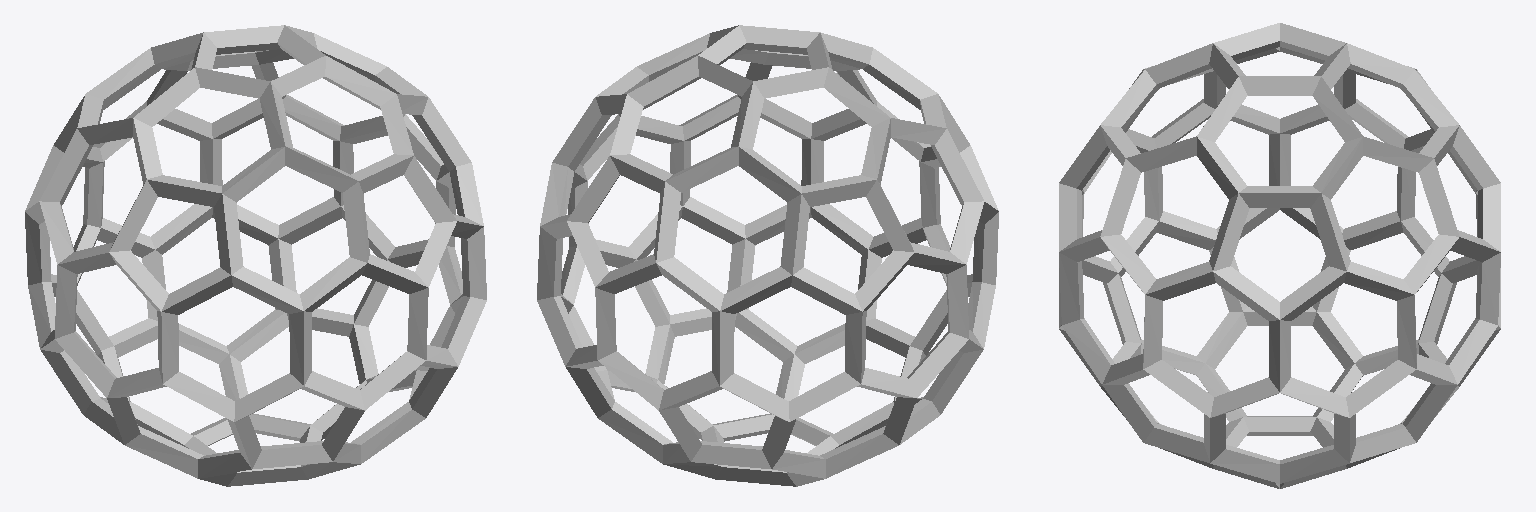
File: artevita_sphere.obj
3 renders of one model, left to right at view 1: azimuth 30°, elevation 25°; view 2: azimuth 150°, elevation 25°; view 3: azimuth 270°, elevation 25°, orthographic.
Parts seen in each view (by area): view 1: Wireframe_ARTEVITA_SPHERE; view 2: Wireframe_ARTEVITA_SPHERE; view 3: Wireframe_ARTEVITA_SPHERE.
Part boxes in pixels (left/top/right/bottom): Wireframe_ARTEVITA_SPHERE: left=25, top=25, right=486, bottom=486; Wireframe_ARTEVITA_SPHERE: left=537, top=25, right=998, bottom=486; Wireframe_ARTEVITA_SPHERE: left=1059, top=23, right=1500, bottom=488.
Size of the model in its own units: 1.94 by 1.87 by 1.84.